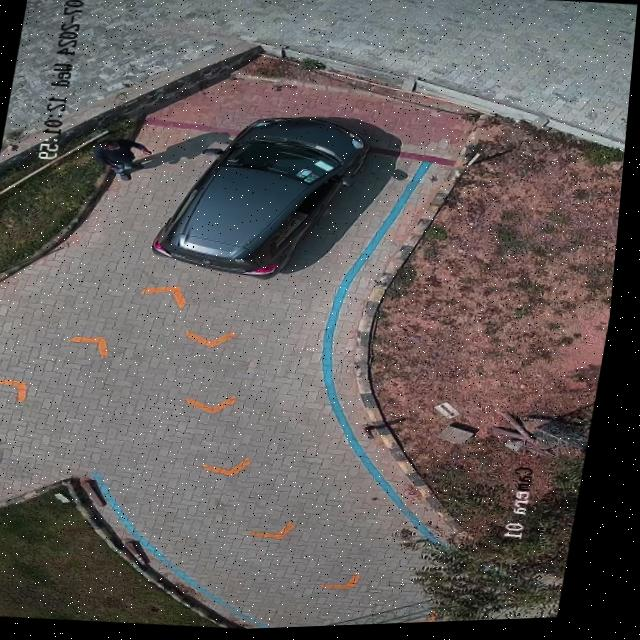car: (157, 119, 371, 279)
